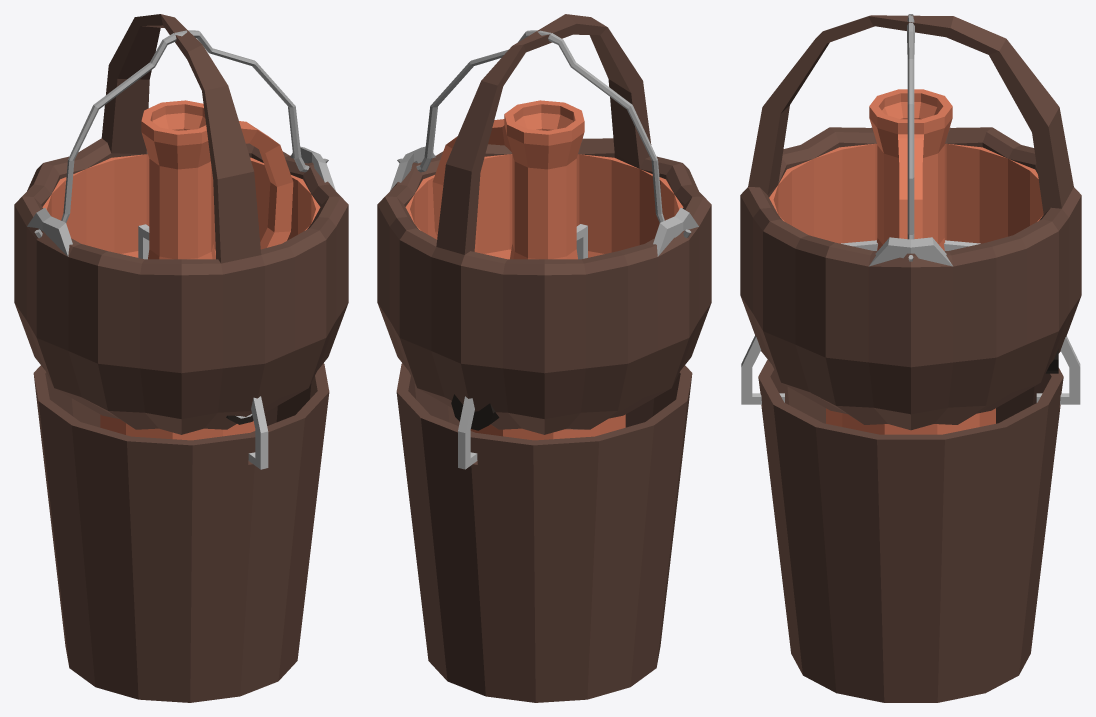
File: items.fbx
3 renders of one model, left to right at view 1: azimuth 30°, elevation 25°; view 2: azimuth 150°, elevation 25°; view 3: azimuth 270°, elevation 25°, orthographic. The views are drawn at different scales.
Visible parts, largest first — view 1: bucket, basket, jug, plant pot, metal pot handle, metal food pot, bucket handle; view 2: bucket, basket, jug, plant pot, metal pot handle, metal food pot, bucket handle, flashlight; view 3: bucket, basket, plant pot, jug, bucket handle, metal pot handle, metal food pot.
Part boxes in pixels (x1=…): bucket: x1=33, y1=363, x2=329, y2=702; basket: x1=14, y1=14, x2=348, y2=434; jug: x1=100, y1=100, x2=293, y2=440; plant pot: x1=42, y1=154, x2=320, y2=257; metal pot handle: x1=34, y1=30, x2=328, y2=238; metal food pot: x1=27, y1=146, x2=335, y2=256; bucket handle: x1=138, y1=224, x2=268, y2=469; bucket: x1=396, y1=363, x2=692, y2=702; basket: x1=377, y1=14, x2=711, y2=434; jug: x1=432, y1=100, x2=625, y2=440; plant pot: x1=405, y1=154, x2=683, y2=259; metal pot handle: x1=397, y1=30, x2=691, y2=238; metal food pot: x1=390, y1=146, x2=698, y2=256; bucket handle: x1=458, y1=224, x2=587, y2=469; flashlight: x1=451, y1=394, x2=499, y2=430; bucket: x1=758, y1=359, x2=1063, y2=702; basket: x1=740, y1=15, x2=1081, y2=430; plant pot: x1=769, y1=143, x2=1043, y2=243; jug: x1=826, y1=89, x2=995, y2=434; bucket handle: x1=741, y1=240, x2=1080, y2=404; metal pot handle: x1=907, y1=14, x2=914, y2=261; metal food pot: x1=869, y1=237, x2=952, y2=266.
Bounding box in the file's own units: 212 × 430 × 209.
Materials: 2 (1 with a texture image).
